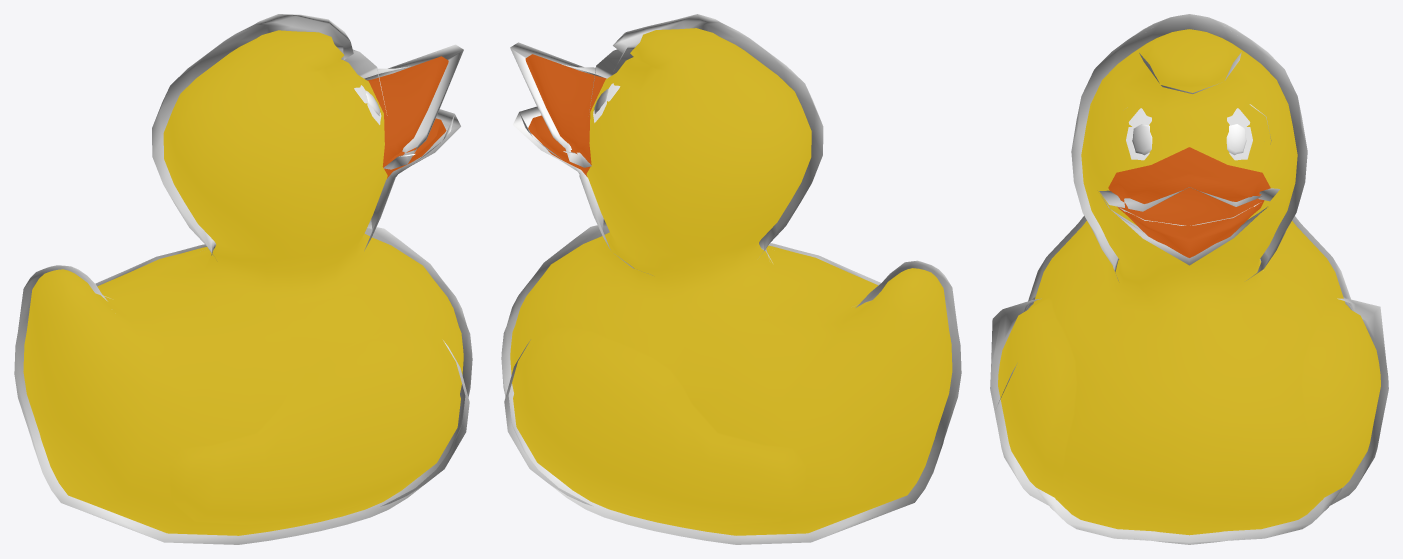
The model's file is Duck.glb.
The picture shows the model from 3 angles, left to right: view 1: azimuth 30°, elevation 25°; view 2: azimuth 150°, elevation 25°; view 3: azimuth 270°, elevation 25°; orthographic projection. The views are drawn at different scales.
Parts seen in each view (by area): view 1: Duck001, Duck001.001; view 2: Duck001, Duck001.001; view 3: Duck001, Duck001.001.
Boxes of the visible parts, <box> form: Duck001: <box>23,30,463,535</box>; Duck001.001: <box>14,14,472,544</box>; Duck001: <box>510,28,952,535</box>; Duck001.001: <box>501,14,961,544</box>; Duck001: <box>998,29,1380,535</box>; Duck001.001: <box>990,14,1388,544</box>.
Size of the model in its own units: 0.1451 by 0.1472 by 0.1101.
